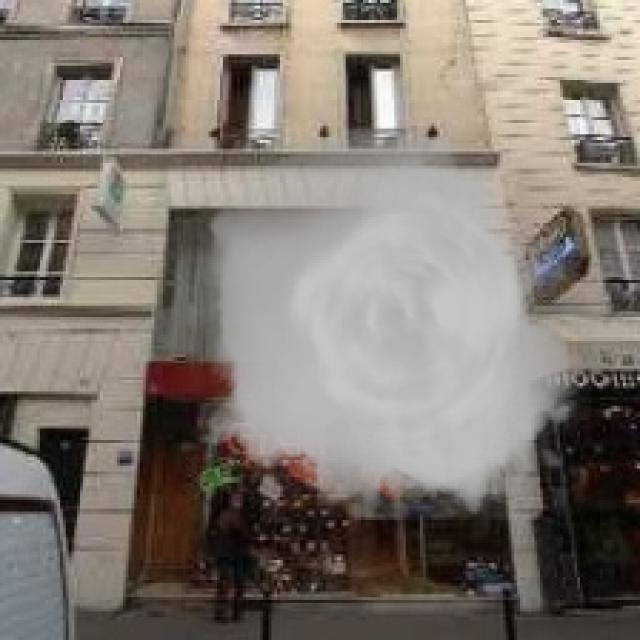Smoke: (188, 125, 592, 520)
